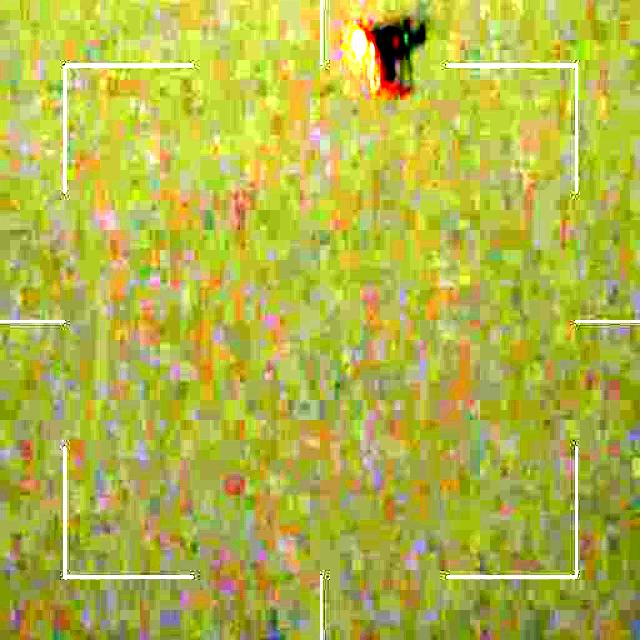bird: (342, 5, 430, 89)
